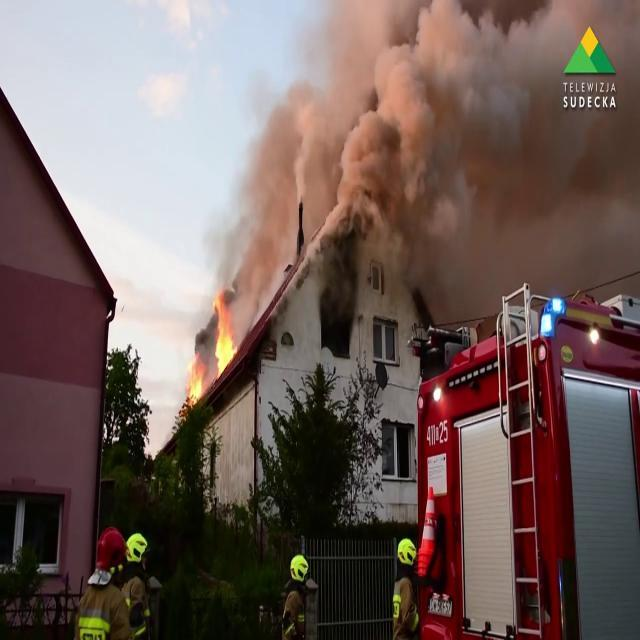Fire: (186, 291, 238, 409), (185, 354, 205, 412)
Smoke: (220, 1, 472, 327), (374, 0, 640, 300)
